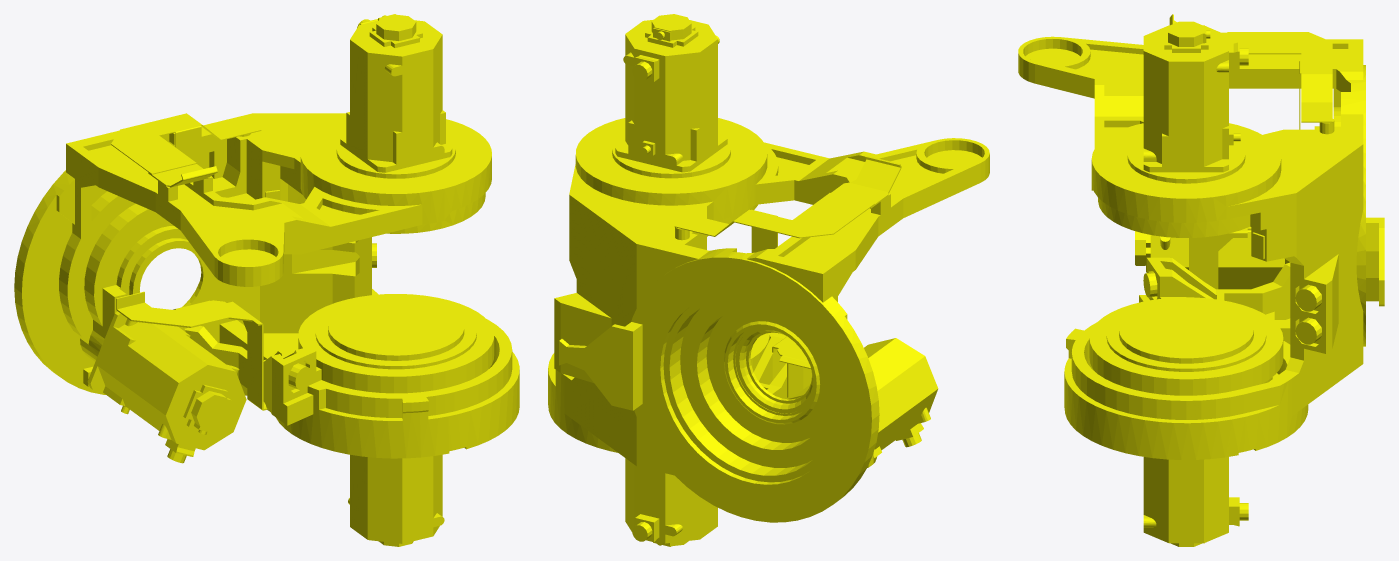
The picture shows the model from 3 angles, left to right: view 1: azimuth 30°, elevation 25°; view 2: azimuth 150°, elevation 25°; view 3: azimuth 270°, elevation 25°; orthographic projection.
Visible parts, largest first — view 1: node; view 2: node; view 3: node.
Boxes of the visible parts, x1,y1,x2,y2 form: node: (14,14,519,546); node: (548,14,989,546); node: (1018,14,1384,546).
Bounding box in the file's own units: 925 × 1145 × 747.
